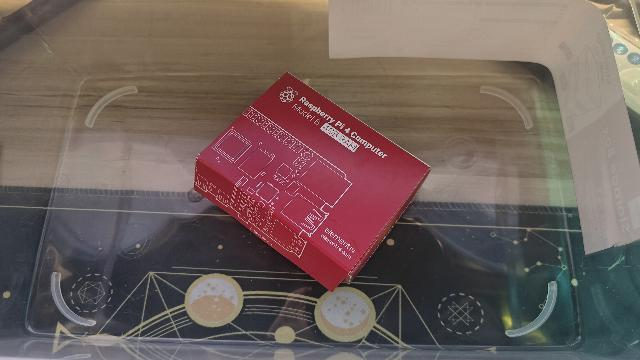rpi_box: (192, 70, 432, 293)
